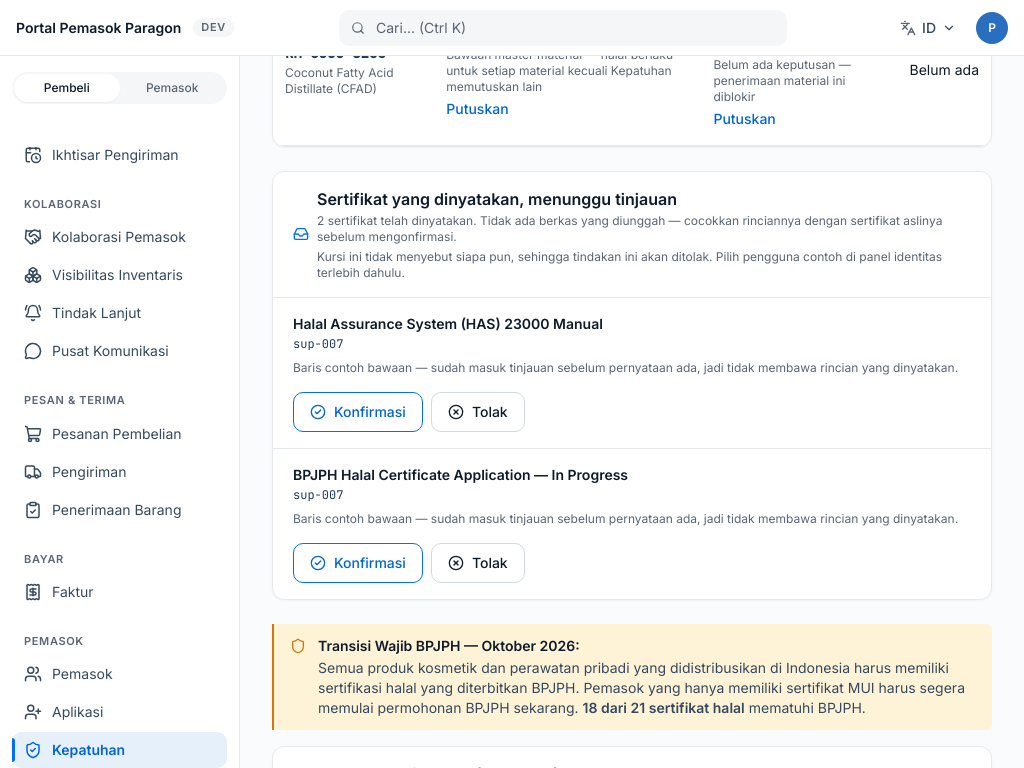
Test: SUP-1 · the certificate queue › [id] and is refused in that language, the document unmoved
(page scrolled)
Click the 1st button "Konfirmasi": (358, 412) [293, 392, 423, 432]
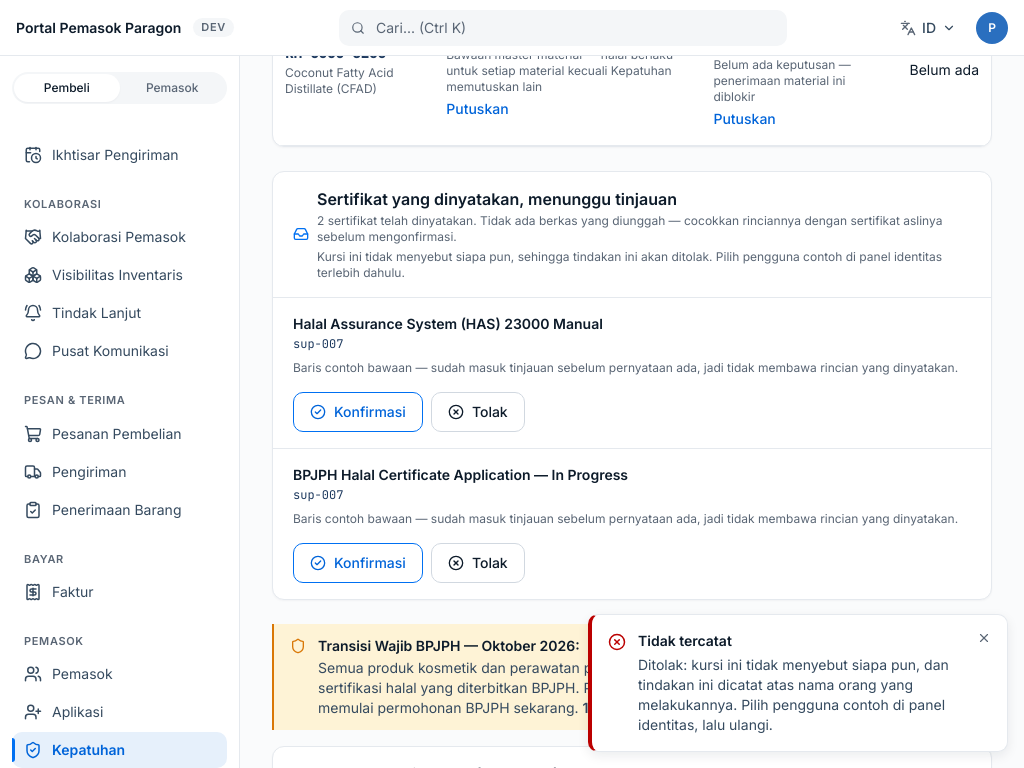
Result: the text "Ditolak: kursi ini tidak menyebut siapa pun, dan tindakan ini dicatat atas nama orang yang melakukannya. Pilih pengguna " is shown at [638, 656, 949, 733]
